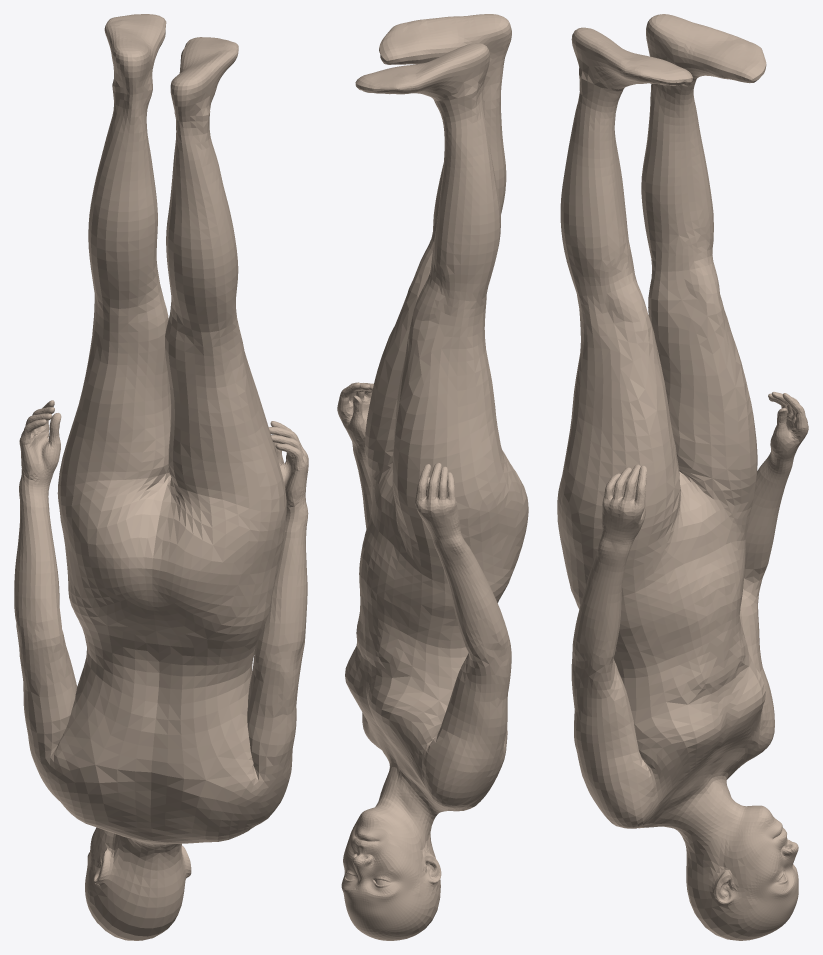
Rendered from avatar_elderly.glb.
3 views of the same model, side by side, from view 1: azimuth 30°, elevation 25°; view 2: azimuth 150°, elevation 25°; view 3: azimuth 270°, elevation 25° (orthographic). The views are drawn at different scales.
Visible parts, largest first — view 1: world; view 2: world; view 3: world.
Part boxes in pixels (x1,y1,x2,y2): world: [14, 14, 308, 940]; world: [337, 14, 528, 940]; world: [557, 14, 808, 940].
Bounding box in the file's own units: 0.4312 × 1.66 × 0.4213.
